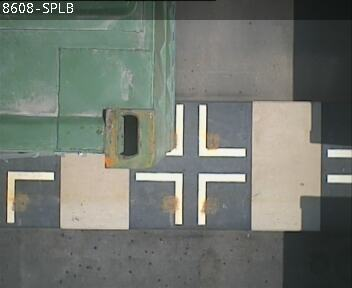groundmarker_1: (135, 170, 246, 225), (166, 104, 245, 156)
